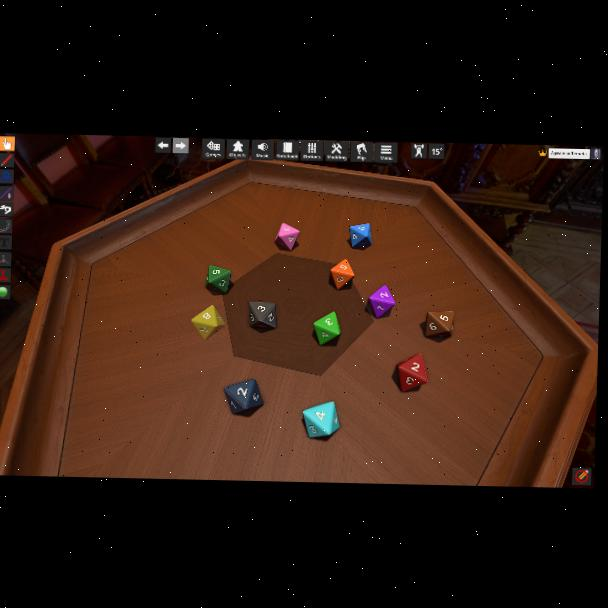d8: (222, 378, 262, 414), (301, 401, 338, 438), (191, 305, 225, 341), (396, 354, 426, 393), (312, 312, 340, 345), (367, 285, 395, 318), (247, 301, 276, 329), (424, 311, 452, 339), (329, 258, 354, 289), (206, 265, 232, 293), (275, 223, 300, 252), (349, 223, 372, 249)
